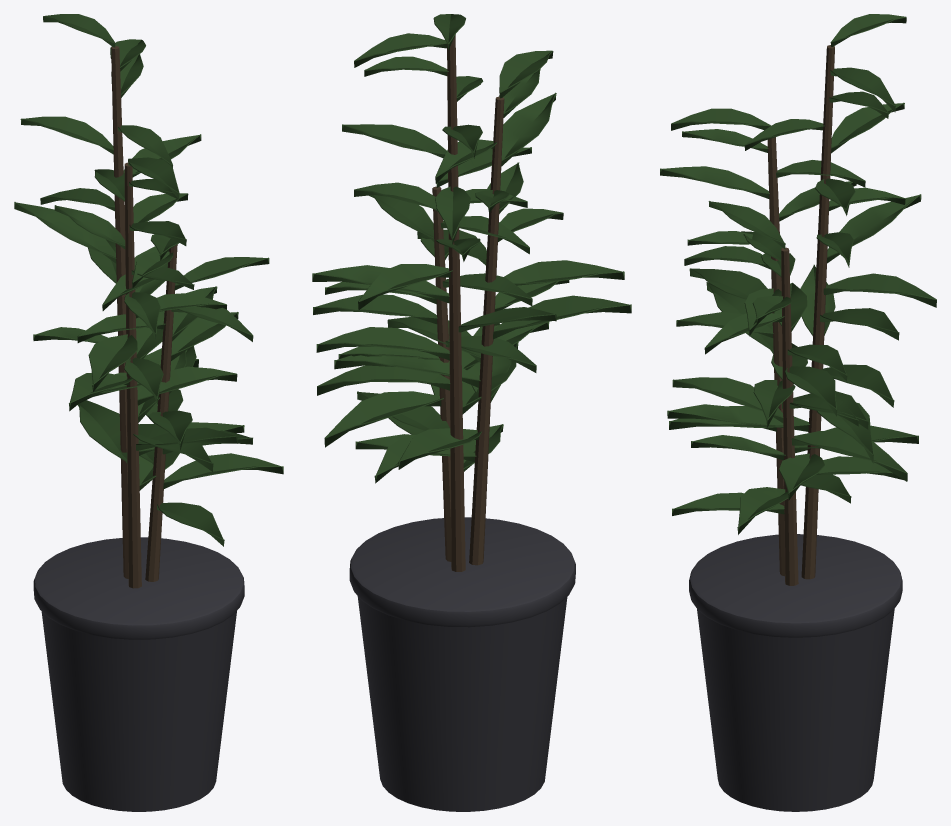
The model's file is pottedPlant.glb.
3 views of the same model, side by side, from view 1: azimuth 30°, elevation 25°; view 2: azimuth 150°, elevation 25°; view 3: azimuth 270°, elevation 25° (orthographic). The views are drawn at different scales.
Parts seen in each view (by area): view 1: pottedPlant; view 2: pottedPlant; view 3: pottedPlant.
Boxes of the visible parts, bbox=[...] form: pottedPlant: bbox=[14, 14, 283, 811]; pottedPlant: bbox=[312, 14, 631, 811]; pottedPlant: bbox=[660, 14, 936, 811].
Bounding box in the file's own units: 0.4542 × 1.37 × 0.4612.
